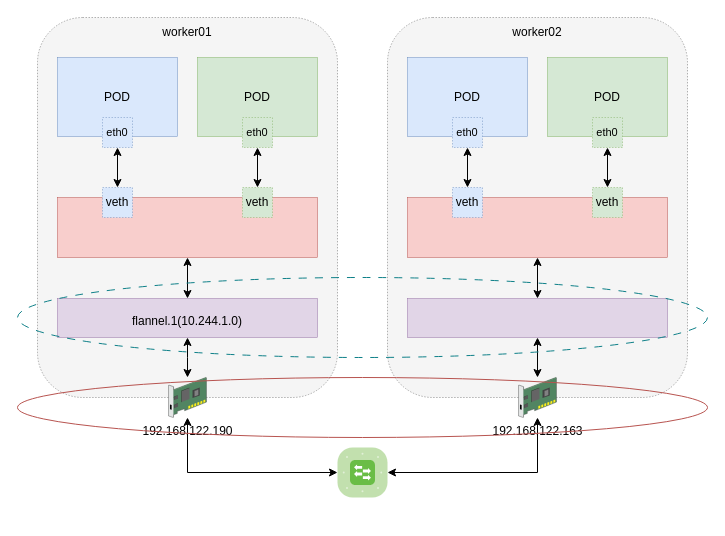
Some shapes in this 725 by 536 pixel diagram are drawn without their labels. Here are the shapes that lost their labels. From the top down, the box of each, then its label:
(57, 197, 317, 257): cni0(10.244.1.1)
(407, 197, 667, 257): cni0(10.244.2.1)
(16, 276, 708, 358): overlay network
(407, 298, 667, 337): flannel.1(10.244.2.0)
(16, 376, 708, 438): underlay network
(336, 446, 388, 498): switch
